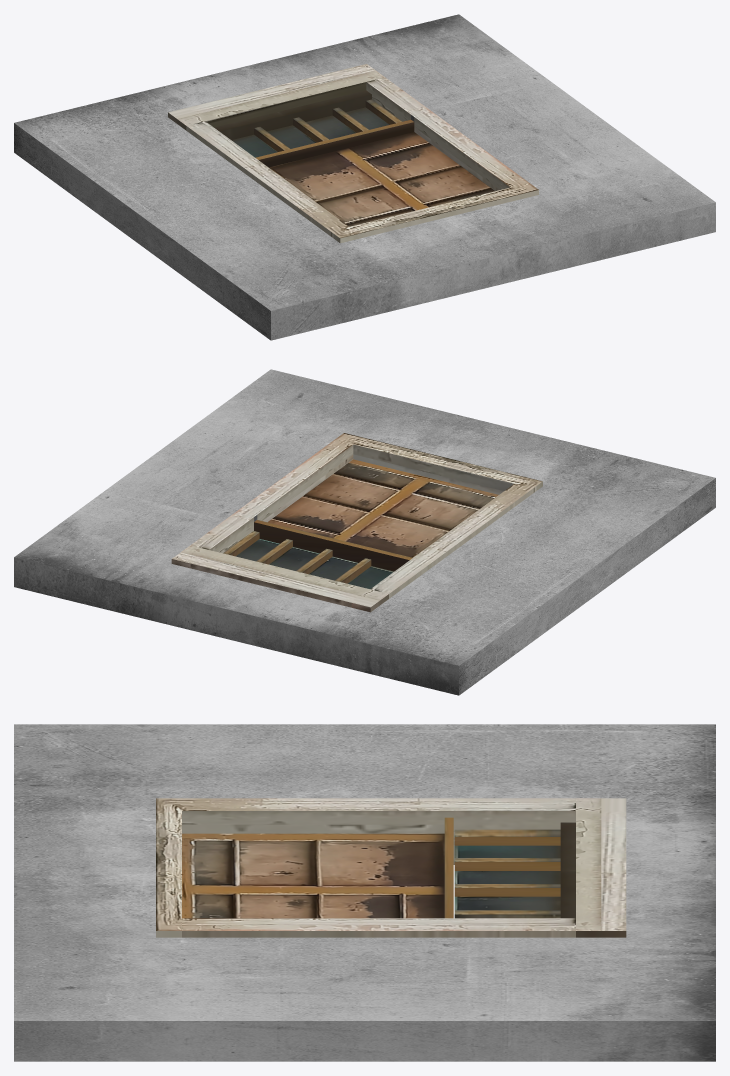
File: wall 2 + window 2.0.fbx
3 renders of one model, top to bottom at view 1: azimuth 30°, elevation 25°; view 2: azimuth 150°, elevation 25°; view 3: azimuth 270°, elevation 25°, orthographic. The views are drawn at different scales.
Parts seen in each view (by area): view 1: cuboid, cuboid_1, cuboid_2, cuboid_7, plane; view 2: cuboid, cuboid_1, cuboid_2, plane; view 3: cuboid, cuboid_1, cuboid_2, plane, cuboid_6, cuboid_7, cuboid_4, cuboid_5, cuboid_3.
Boxes of the visible parts, x1,y1,x2,y2 form: cuboid: [14, 14, 715, 340]; cuboid_1: [168, 64, 538, 243]; cuboid_2: [269, 132, 494, 226]; cuboid_7: [214, 90, 371, 139]; plane: [231, 107, 389, 157]; cuboid: [14, 369, 715, 695]; cuboid_1: [171, 433, 542, 612]; cuboid_2: [268, 459, 498, 557]; plane: [236, 539, 393, 588]; cuboid: [14, 724, 715, 1061]; cuboid_1: [156, 798, 626, 937]; cuboid_2: [182, 833, 444, 918]; plane: [454, 845, 560, 910]; cuboid_6: [454, 829, 560, 845]; cuboid_7: [560, 822, 575, 918]; cuboid_4: [454, 884, 560, 896]; cuboid_5: [454, 858, 560, 870]; cuboid_3: [454, 910, 560, 918].
Bounding box in the file's own units: 588 × 62.5 × 588.
Materials: 2 (2 with a texture image).
